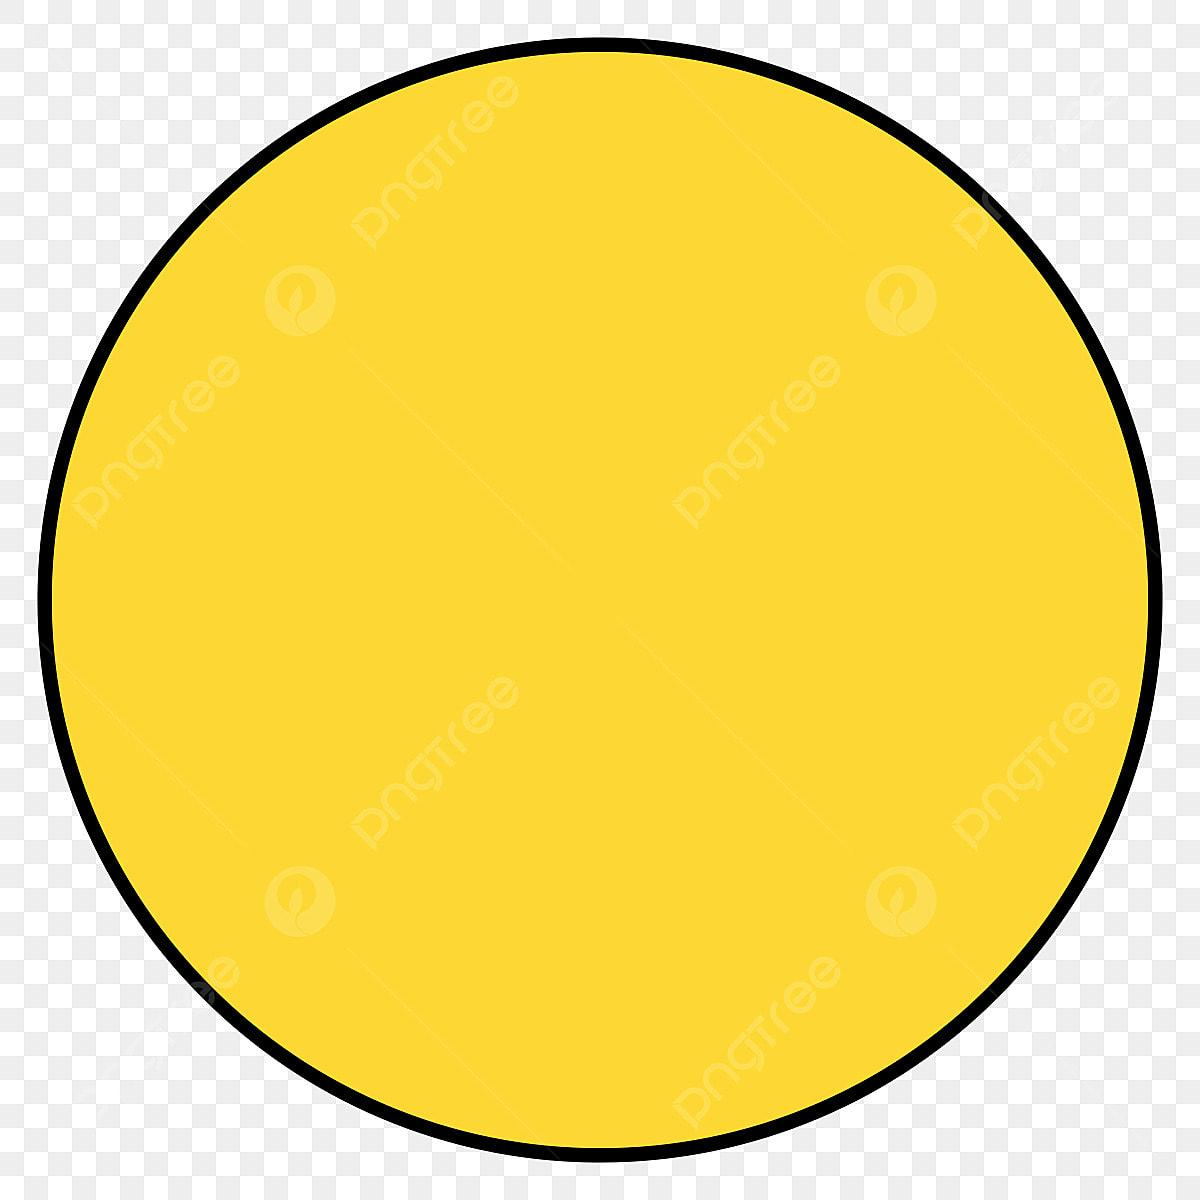yellow_circle: (0, 3, 1200, 1200)
